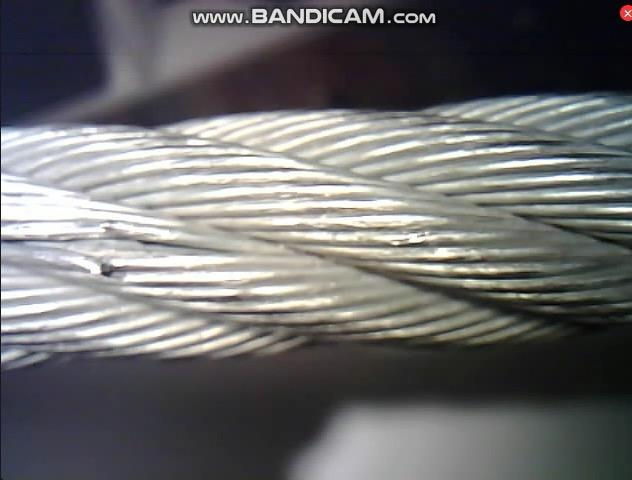break: (70, 225, 137, 294)
